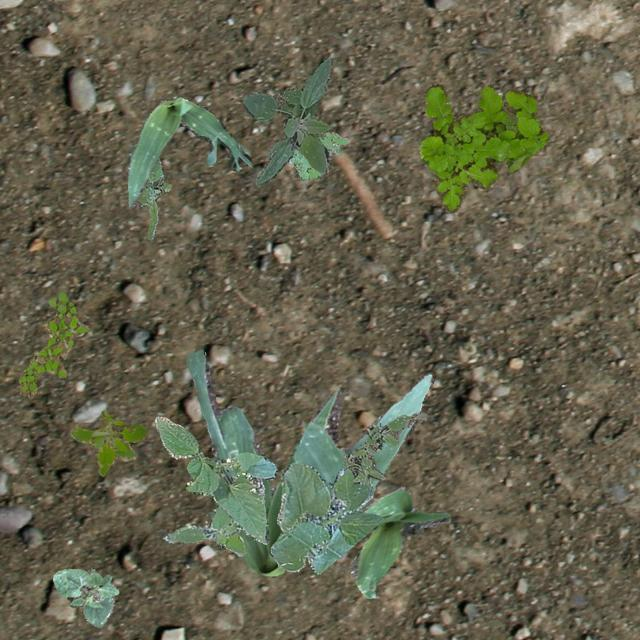crop: (188, 349, 434, 576), (154, 416, 276, 542), (126, 96, 250, 206), (270, 462, 382, 572), (348, 486, 448, 598), (51, 566, 118, 626)
weed: (418, 82, 546, 212), (242, 56, 332, 185), (18, 290, 88, 396), (342, 412, 428, 484), (70, 408, 144, 476), (162, 504, 245, 554), (288, 130, 348, 182), (136, 158, 170, 238)
